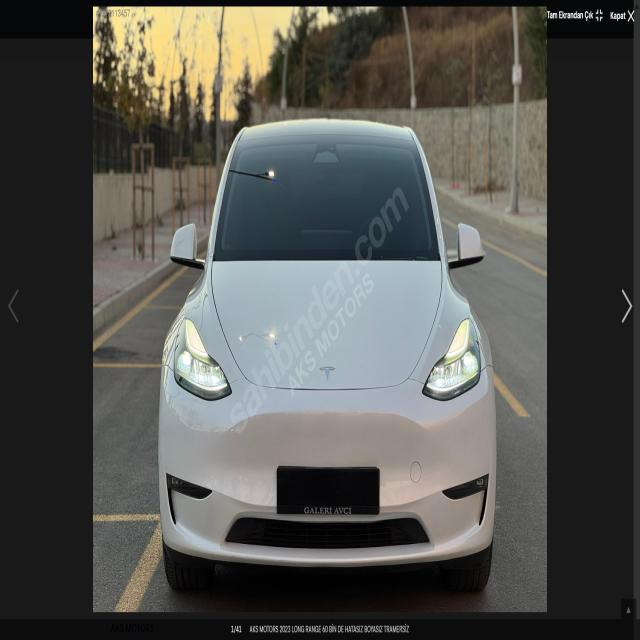tesla: (315, 352, 341, 391)
